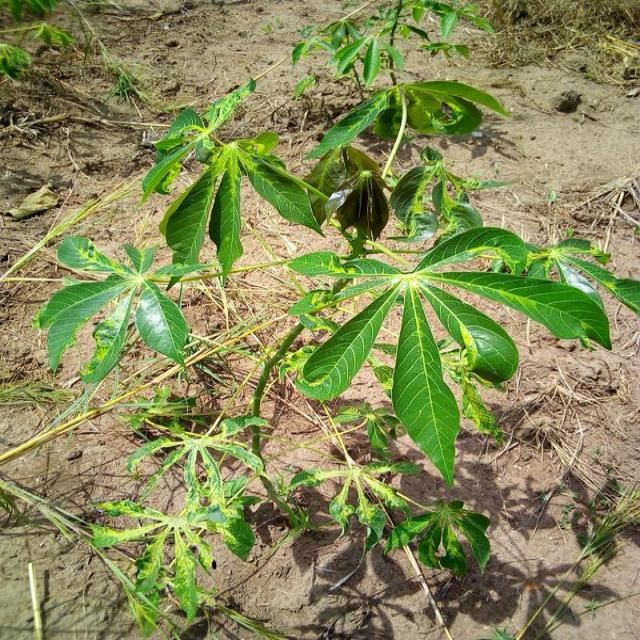cassava leaf: (286, 223, 613, 488), (392, 281, 462, 488)
